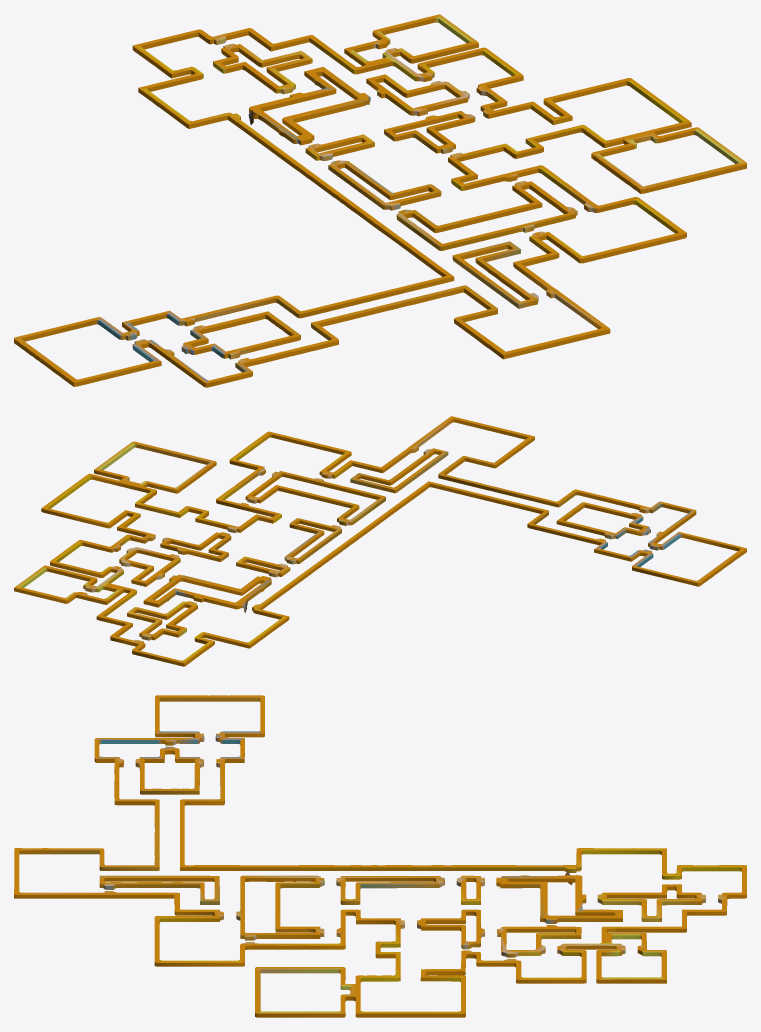
Rendered from level walls.fbx.
3 views of the same model, one above another, from view 1: azimuth 30°, elevation 25°; view 2: azimuth 150°, elevation 25°; view 3: azimuth 270°, elevation 25° (orthographic). The views are drawn at different scales.
Parts seen in each view (by area): view 1: quickmaterial1; view 2: quickmaterial1; view 3: quickmaterial1.
Part boxes in pixels (box(x1,y1,x2,y2)): quickmaterial1: box(14, 14, 746, 387); quickmaterial1: box(14, 416, 746, 666); quickmaterial1: box(14, 695, 746, 1017).
Size of the model in its own units: 962 by 21.66 by 936.
